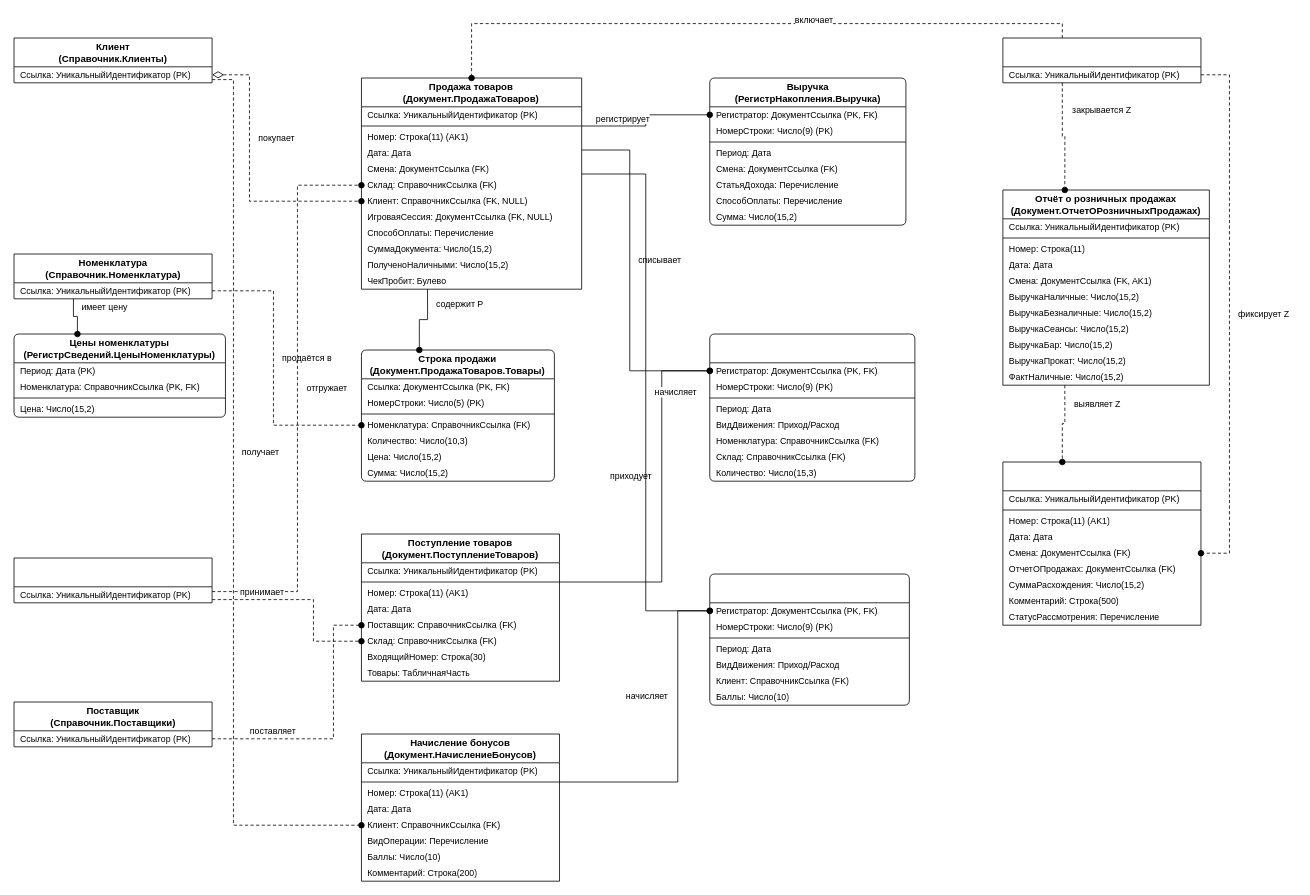
Some shapes in this 1310 by 895 pixel diagram are drawn without their labels. Each missing label, with the box of its shape:
Акт расхождения (Документ.АктРасхождения): (1002, 461, 1201, 625)
Бонусные баллы (РегистрНакопления.БонусныеБаллы): (709, 573, 909, 705)
Кассовая смена (Документ.КассоваяСмена): (1002, 37, 1201, 83)
Остатки товаров (РегистрНакопления.ОстаткиТоваров): (709, 333, 915, 481)
Склад (Справочник.Склады): (13, 557, 212, 603)
